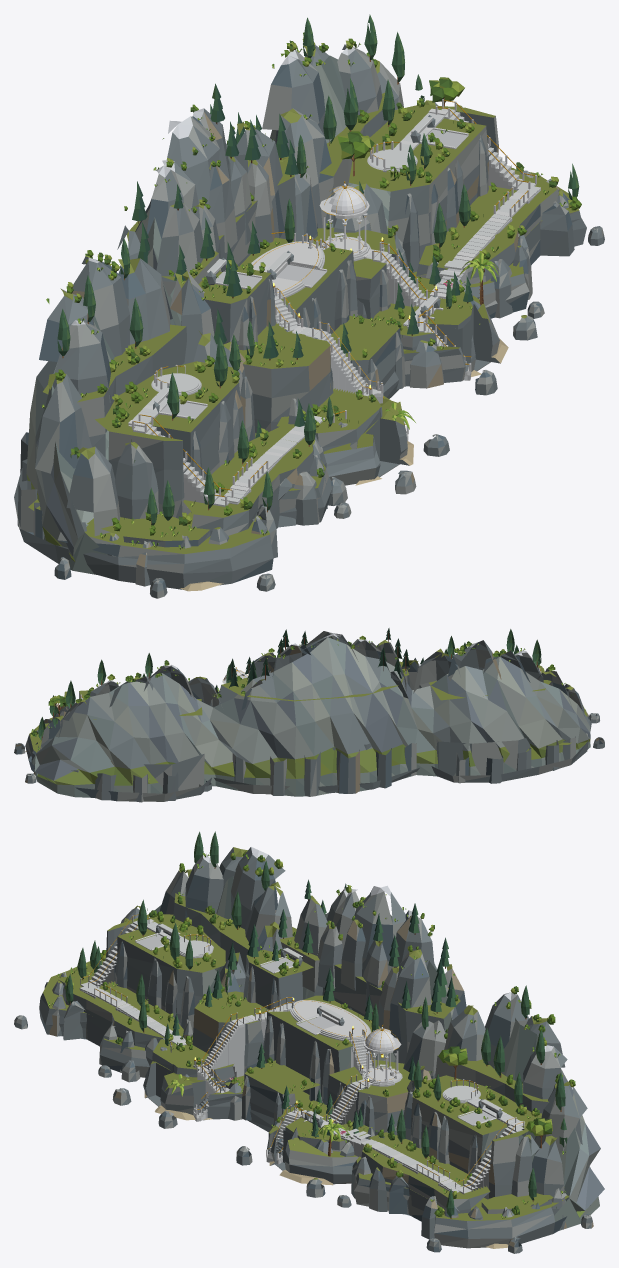
Rendered from wave.glb.
3 renders of one model, top to bottom at view 1: azimuth 30°, elevation 25°; view 2: azimuth 150°, elevation 25°; view 3: azimuth 270°, elevation 25°, orthographic. The views are drawn at different scales.
Parts seen in each view (by area): view 1: Batch | Qoves_Root; view 2: Batch | Qoves_Root; view 3: Batch | Qoves_Root.
Boxes of the visible parts, x1=… form: Batch | Qoves_Root: x1=14, y1=14, x2=604, y2=598; Batch | Qoves_Root: x1=14, y1=628, x2=604, y2=802; Batch | Qoves_Root: x1=14, y1=831, x2=604, y2=1253.
Bounding box in the file's own units: 47.09 × 15.61 × 41.59.
